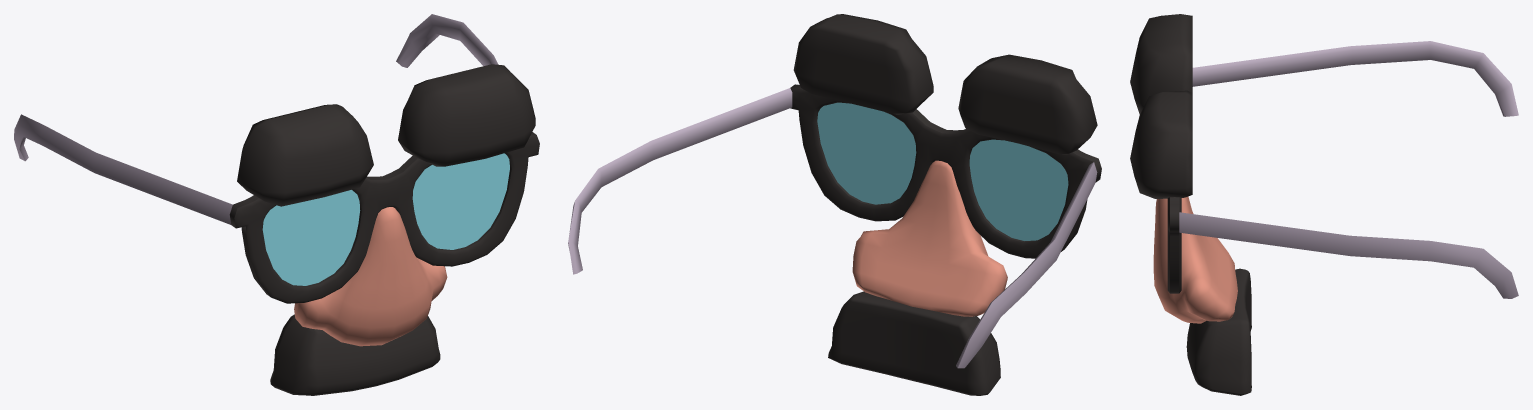
File: Glasses_01_02.fbx
3 views of the same model, side by side, from view 1: azimuth 30°, elevation 25°; view 2: azimuth 150°, elevation 25°; view 3: azimuth 270°, elevation 25° (orthographic). The views are drawn at different scales.
Visible parts, largest first — view 1: Glasses_01_02; view 2: Glasses_01_02; view 3: Glasses_01_02.
Boxes of the visible parts, x1=… form: Glasses_01_02: x1=14, y1=14, x2=539, y2=395; Glasses_01_02: x1=568, y1=14, x2=1101, y2=395; Glasses_01_02: x1=1130, y1=14, x2=1518, y2=395.
Bounding box in the file's own units: 38.47 × 26.3 × 31.16.
